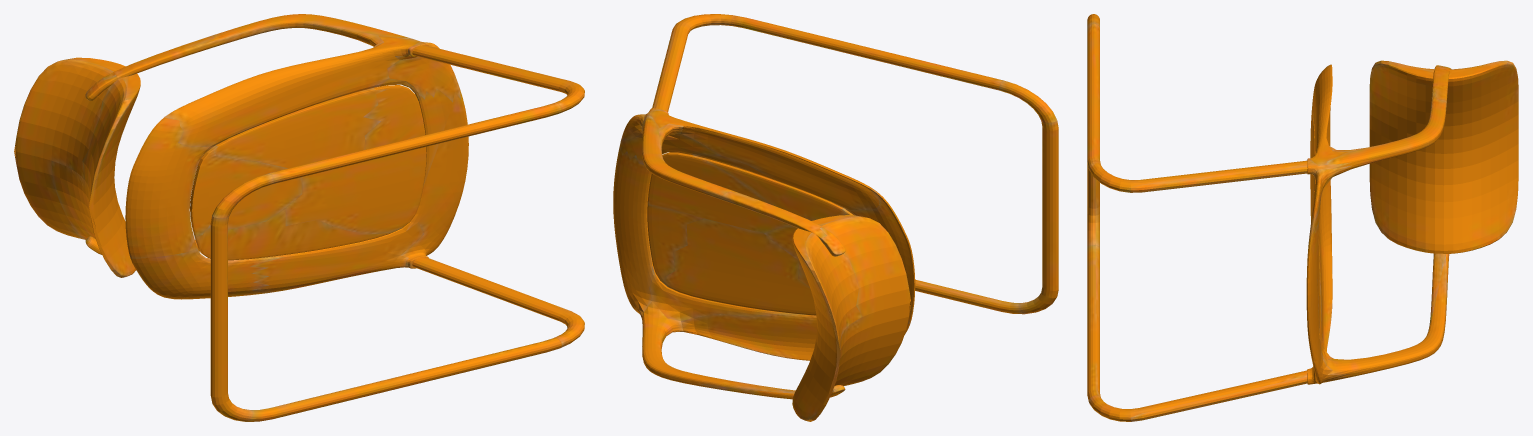
File: chair_9.glb
3 views of the same model, side by side, from view 1: azimuth 30°, elevation 25°; view 2: azimuth 150°, elevation 25°; view 3: azimuth 270°, elevation 25° (orthographic). The views are drawn at different scales.
Visible parts, largest first — view 1: chair_9; view 2: chair_9; view 3: chair_9.
Boxes of the visible parts, <box> form: chair_9: <box>14,14,584,421</box>; chair_9: <box>613,14,1058,421</box>; chair_9: <box>1087,14,1518,421</box>.
Bounding box in the file's own units: 2.24 × 1.35 × 2.17.
1 material, 1 textured.
